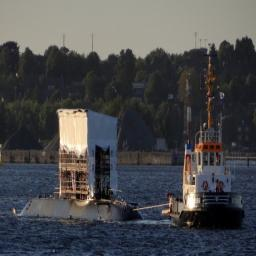submarine: (20, 106, 147, 224)
